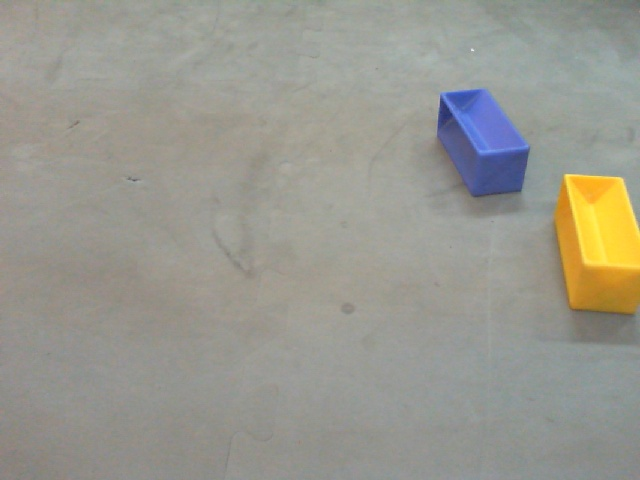BlueSample: (432, 86, 529, 204)
YellowSample: (552, 168, 639, 321)
